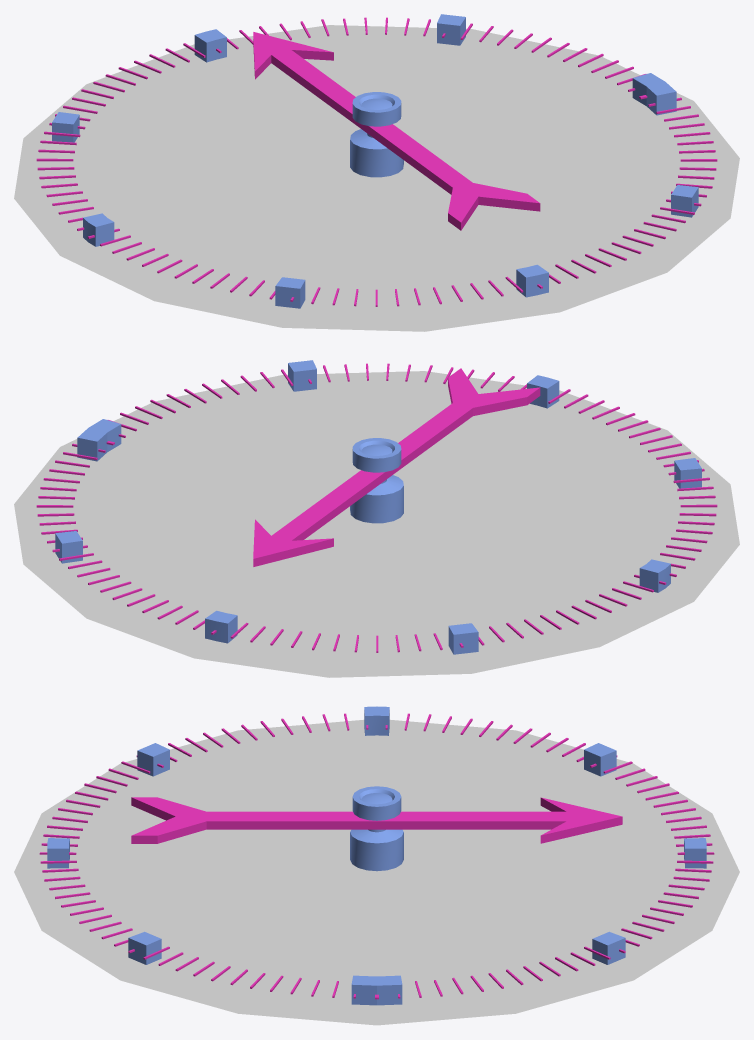
The model's file is compass_scale.gltf.
3 renders of one model, top to bottom at view 1: azimuth 30°, elevation 25°; view 2: azimuth 150°, elevation 25°; view 3: azimuth 270°, elevation 25°, orthographic.
Visible parts, largest first — view 1: Bg, Extrude, Axis, Cube 6, Cube 2, Cube 5, Cube 4, Cube 8, Cube 1, Cube 7, Cube 3, Cube 0; view 2: Bg, Extrude, Axis, Cube 2, Cube 3, Cube 4, Cube 0, Cube 7, Cube 1, Cube 5, Cube 6, Cube 8; view 3: Bg, Extrude, Axis, Cube 1, Cube 7, Cube 3, Cube 5, Cube 4, Cube 0, Cube 8, Cube 2, Cube 6.
Part boxes in pixels (box(x1,y1,x2,y2)): Bg: box(14, 25, 739, 331); Extrude: box(253, 32, 540, 230); Axis: box(350, 92, 403, 177); Cube 6: box(516, 264, 548, 297); Cube 2: box(194, 29, 226, 62); Cube 5: box(275, 277, 305, 308); Cube 4: box(83, 213, 114, 246); Cube 8: box(646, 82, 676, 115); Cube 1: box(437, 14, 465, 45); Cube 7: box(671, 185, 698, 217); Cube 3: box(52, 112, 79, 142); Cube 0: box(632, 73, 664, 105); Bg: box(14, 371, 739, 677); Extrude: box(253, 368, 540, 566); Axis: box(350, 438, 403, 523); Cube 2: box(205, 610, 237, 643); Cube 3: box(448, 623, 478, 654); Cube 4: box(639, 559, 670, 592); Cube 0: box(77, 428, 107, 461); Cube 7: box(288, 360, 316, 391); Cube 1: box(55, 531, 82, 563); Cube 5: box(674, 458, 701, 488); Cube 6: box(527, 375, 559, 408); Cube 8: box(89, 419, 121, 451); Bg: box(14, 719, 739, 1025); Extrude: box(131, 797, 622, 843); Axis: box(350, 786, 403, 871); Cube 1: box(592, 931, 625, 964); Cube 7: box(128, 931, 161, 964); Cube 3: box(584, 743, 616, 776); Cube 5: box(137, 743, 169, 776); Cube 4: box(364, 706, 389, 735); Cube 0: box(377, 975, 402, 1005); Cube 8: box(351, 975, 376, 1005); Cube 2: box(684, 838, 706, 868); Cube 6: box(47, 838, 69, 868).
Bounding box in the file's own units: 200 × 22.94 × 200.
